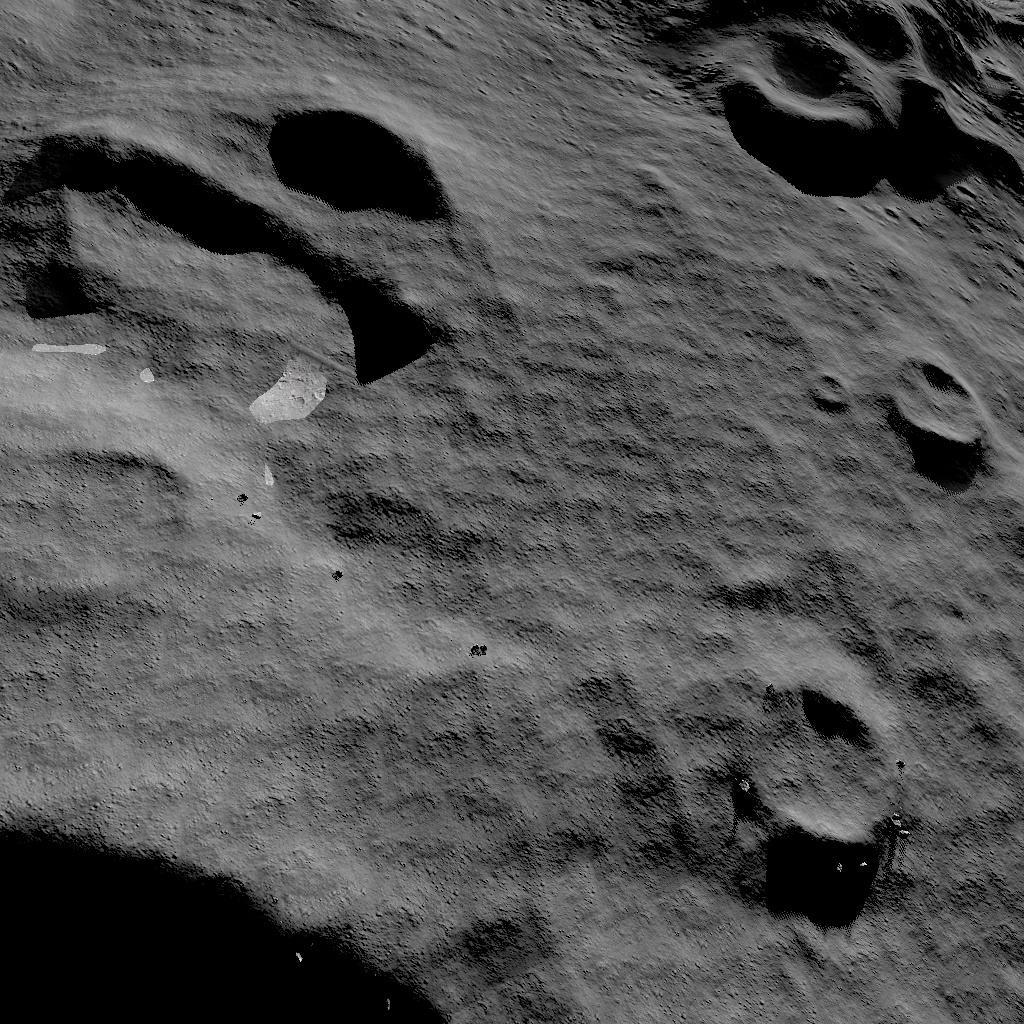Crater: (0, 64, 445, 378), (0, 760, 475, 1024), (686, 0, 1024, 176), (0, 414, 213, 616), (716, 656, 907, 856), (881, 310, 1005, 448), (806, 337, 847, 400)
Plan surface: (469, 193, 763, 596), (501, 910, 1024, 1024)
